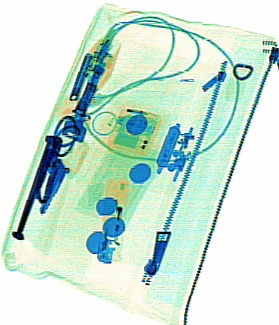lighter: (96, 176, 130, 264)
